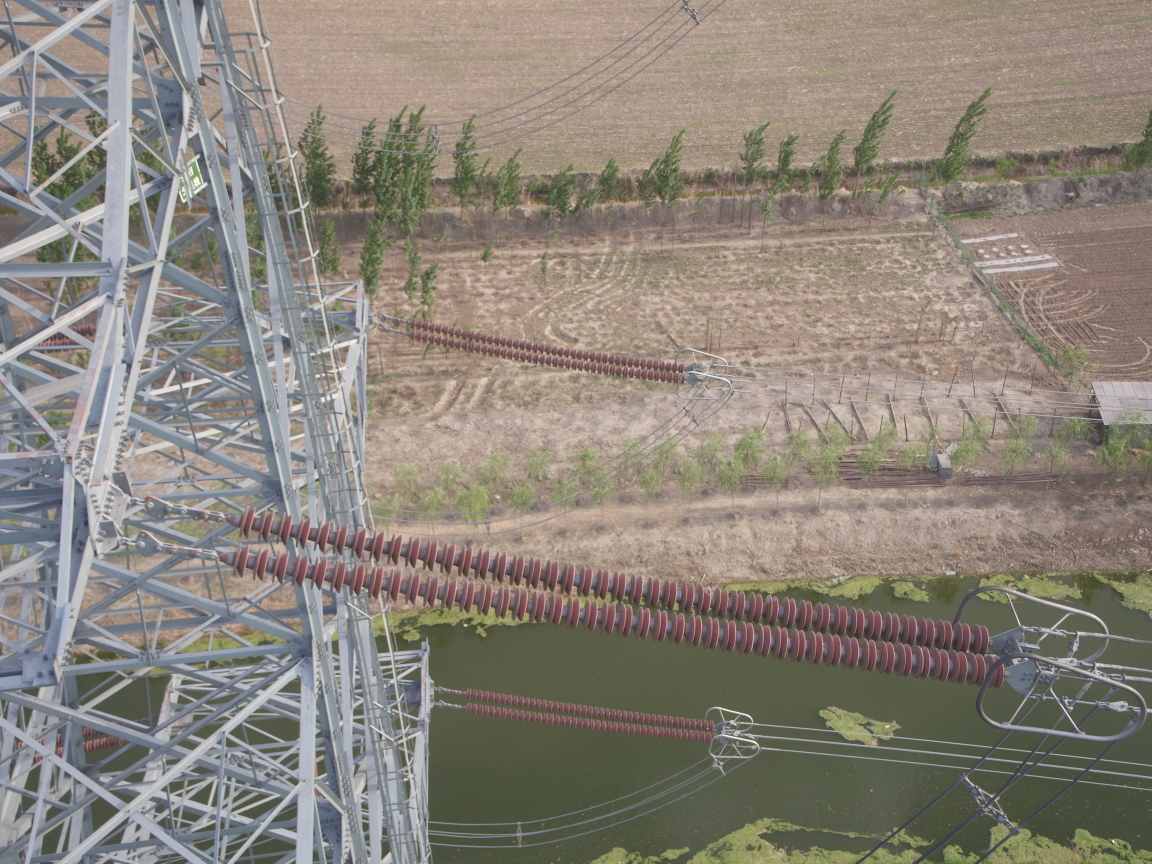insulator: (183, 498, 1019, 690), (398, 316, 690, 385), (446, 682, 723, 744)
